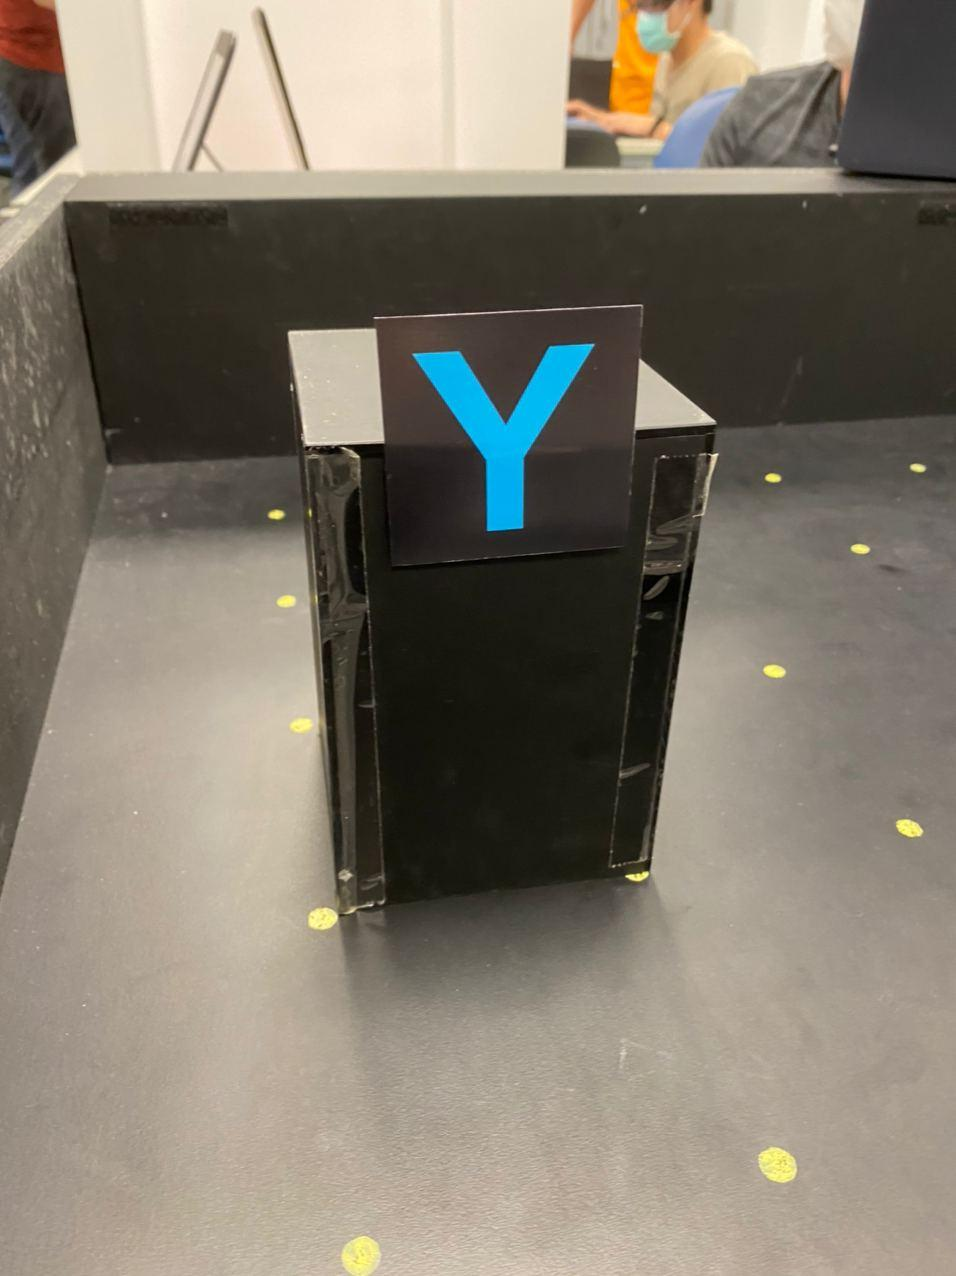y: (403, 345, 605, 542)
